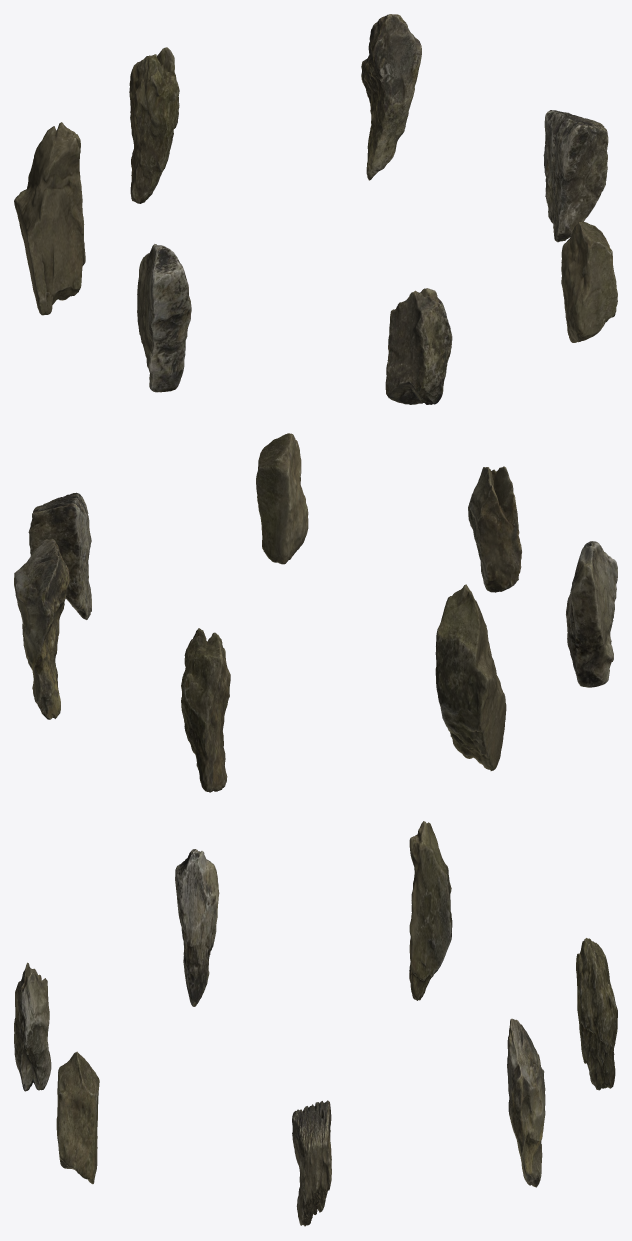
Rendered from stones.glb.
3 views of the same model, one above another, from view 1: azimuth 30°, elevation 25°; view 2: azimuth 150°, elevation 25°; view 3: azimuth 270°, elevation 25° (orthographic).
Parts seen in each view (by area): view 1: rock_moss_set_02_rock13.001, rock_moss_set_02_rock08.001, rock_moss_set_02_rock09.001, rock_moss_set_02_rock11.001, rock_moss_set_02_rock10.001, rock_moss_set_02_rock12.001, rock_moss_set_02_rock07.001; view 2: rock_moss_set_02_rock13.001, rock_moss_set_02_rock09.001, rock_moss_set_02_rock12.001, rock_moss_set_02_rock10.001, rock_moss_set_02_rock07.001, rock_moss_set_02_rock11.001, rock_moss_set_02_rock08.001; view 3: rock_moss_set_02_rock13.001, rock_moss_set_02_rock12.001, rock_moss_set_02_rock10.001, rock_moss_set_02_rock09.001, rock_moss_set_02_rock07.001, rock_moss_set_02_rock08.001, rock_moss_set_02_rock11.001.
Part boxes in pixels (left/top/right/bottom): rock_moss_set_02_rock13.001: left=14, top=122, right=85, bottom=315; rock_moss_set_02_rock08.001: left=543, top=110, right=608, bottom=242; rock_moss_set_02_rock09.001: left=361, top=14, right=421, bottom=180; rock_moss_set_02_rock11.001: left=385, top=288, right=452, bottom=404; rock_moss_set_02_rock10.001: left=137, top=244, right=191, bottom=392; rock_moss_set_02_rock12.001: left=129, top=47, right=179, bottom=203; rock_moss_set_02_rock07.001: left=561, top=221, right=617, bottom=342; rock_moss_set_02_rock13.001: left=435, top=584, right=506, bottom=770; rock_moss_set_02_rock09.001: left=14, top=539, right=69, bottom=719; rock_moss_set_02_rock12.001: left=181, top=628, right=230, bottom=792; rock_moss_set_02_rock10.001: left=566, top=541, right=617, bottom=687; rock_moss_set_02_rock07.001: left=256, top=433, right=308, bottom=564; rock_moss_set_02_rock11.001: left=468, top=466, right=521, bottom=592; rock_moss_set_02_rock08.001: left=28, top=492, right=91, bottom=619; rock_moss_set_02_rock13.001: left=409, top=821, right=452, bottom=1000; rock_moss_set_02_rock12.001: left=576, top=938, right=617, bottom=1090; rock_moss_set_02_rock10.001: left=175, top=849, right=219, bottom=1006; rock_moss_set_02_rock09.001: left=507, top=1018, right=545, bottom=1187; rock_moss_set_02_rock07.001: left=56, top=1051, right=99, bottom=1184; rock_moss_set_02_rock08.001: left=292, top=1100, right=331, bottom=1226; rock_moss_set_02_rock11.001: left=14, top=962, right=51, bottom=1091.
Bounding box in the file's own units: 6.85 × 2.3 × 6.73.
Materials: 1 (1 with a texture image).
